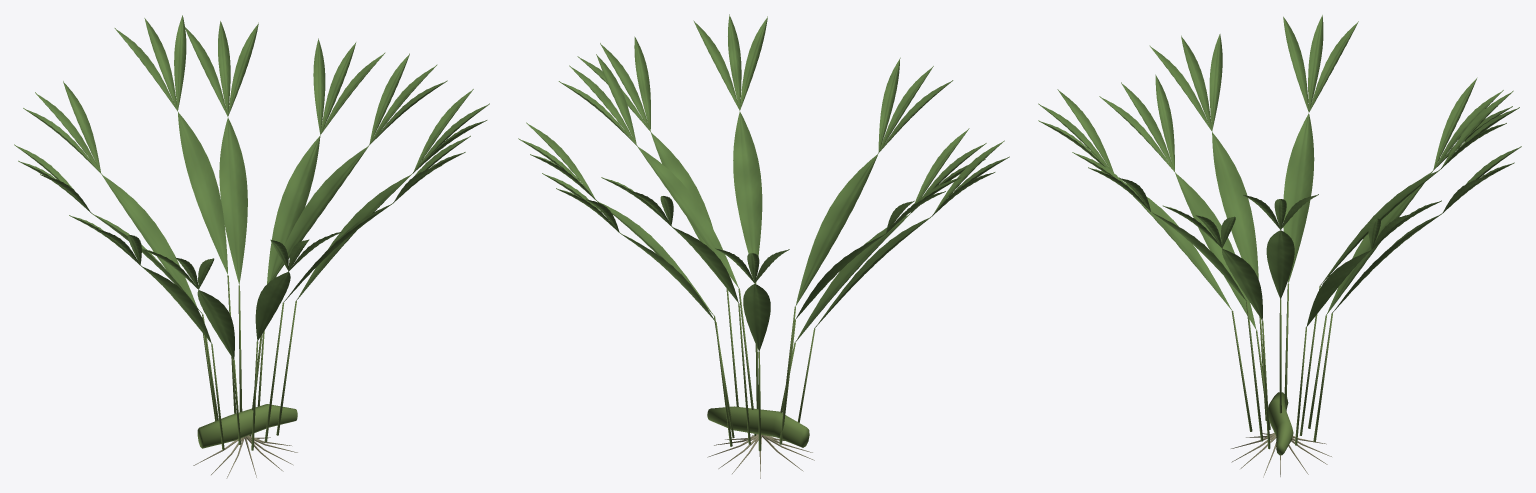
Rendered from trident-desktop.glb.
3 renders of one model, left to right at view 1: azimuth 30°, elevation 25°; view 2: azimuth 150°, elevation 25°; view 3: azimuth 270°, elevation 25°, orthographic. The views are drawn at different scales.
Parts seen in each view (by area): view 1: fern-lower-blade, petiole, creeping-rhizome, anchoring-root; view 2: fern-lower-blade, petiole, creeping-rhizome, anchoring-root; view 3: fern-lower-blade, petiole, creeping-rhizome, anchoring-root.
Part boxes in pixels (x1=…): fern-lower-blade: x1=14, y1=15, x2=489, y2=359; petiole: x1=202, y1=275, x2=296, y2=450; creeping-rhizome: x1=197, y1=404, x2=297, y2=448; anchoring-root: x1=193, y1=435, x2=297, y2=478; fern-lower-blade: x1=518, y1=14, x2=1009, y2=351; petiole: x1=714, y1=282, x2=815, y2=451; creeping-rhizome: x1=707, y1=406, x2=809, y2=447; anchoring-root: x1=707, y1=434, x2=814, y2=478; fern-lower-blade: x1=1038, y1=15, x2=1521, y2=330; petiole: x1=1231, y1=283, x2=1332, y2=449; creeping-rhizome: x1=1268, y1=392, x2=1293, y2=455; anchoring-root: x1=1231, y1=433, x2=1331, y2=477.
Bounding box in the file's own units: 0.7591 × 0.6161 × 0.7562.
